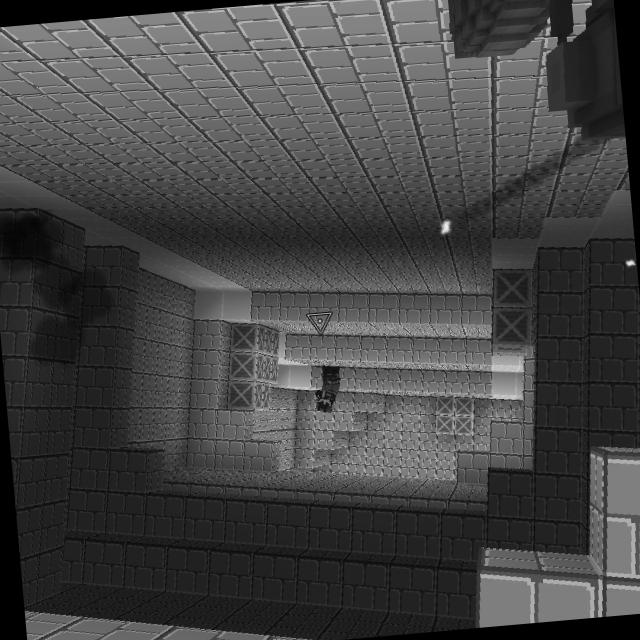enemy: (310, 362, 345, 415)
